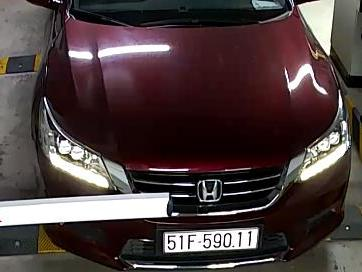number: (163, 229, 260, 251)
